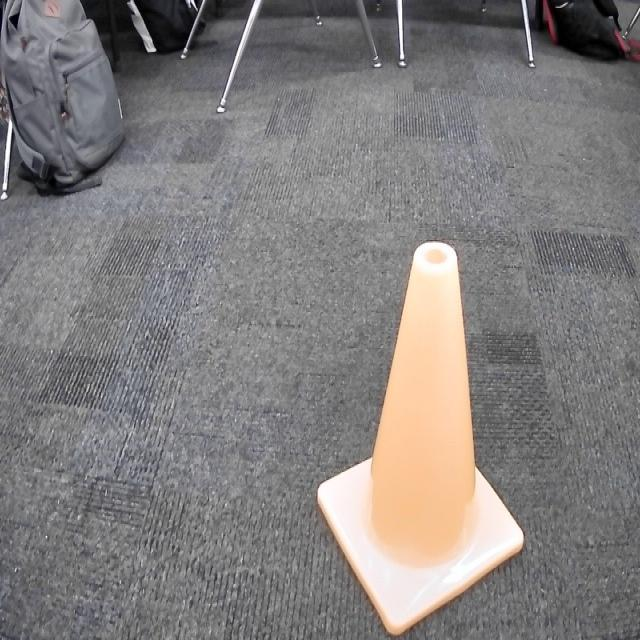cone: (318, 241, 523, 640)
